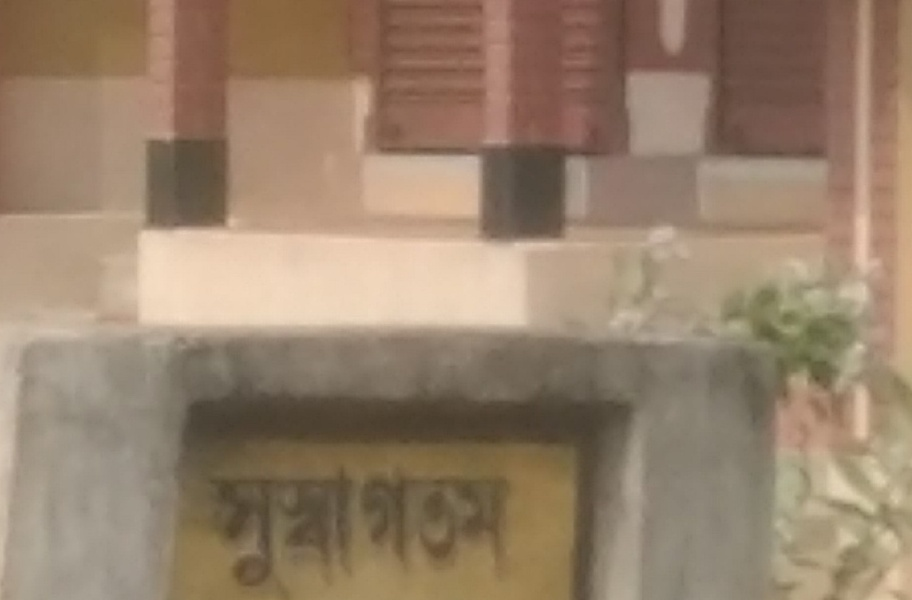text: (209, 459, 224, 599), (225, 459, 240, 599), (241, 459, 256, 599), (257, 459, 272, 599), (273, 459, 288, 599), (289, 459, 304, 599), (305, 459, 320, 599), (321, 459, 336, 599), (337, 459, 352, 599), (353, 459, 368, 599), (369, 459, 384, 599), (385, 459, 400, 599), (401, 459, 416, 599), (417, 459, 432, 599), (433, 459, 448, 599), (449, 459, 464, 599), (465, 459, 480, 599), (481, 459, 496, 599), (497, 459, 512, 599), (513, 459, 523, 599), (203, 459, 208, 599)
